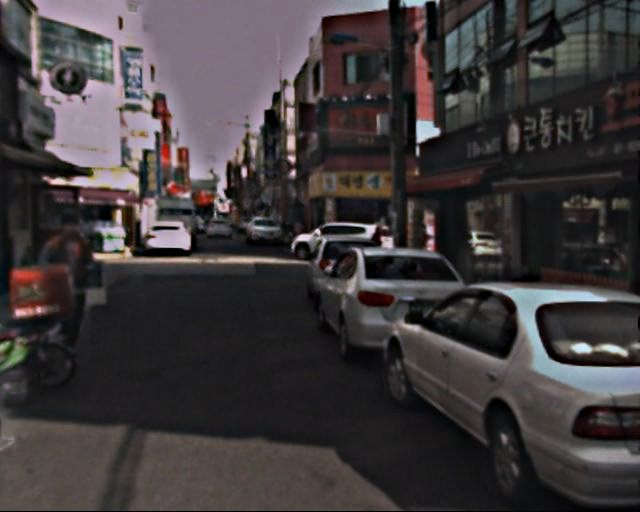person: (39, 215, 107, 363), (369, 225, 388, 272)
